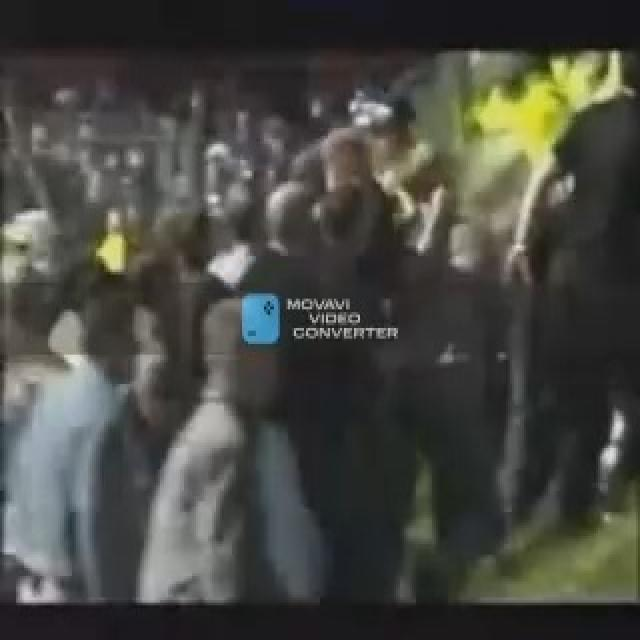non-voilence: (0, 45, 638, 606)
